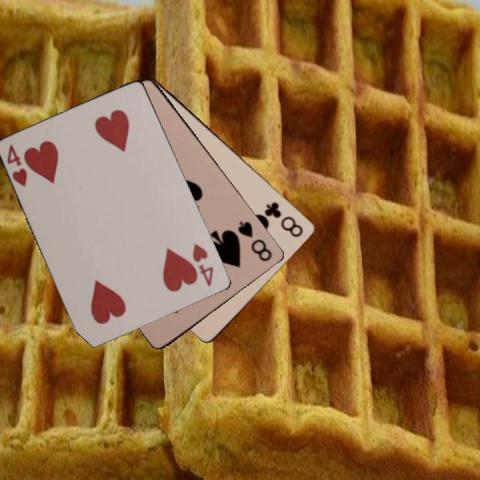4h: (190, 240, 215, 288), (4, 141, 29, 189)
8c: (262, 198, 305, 238)
8s: (235, 218, 274, 263)
